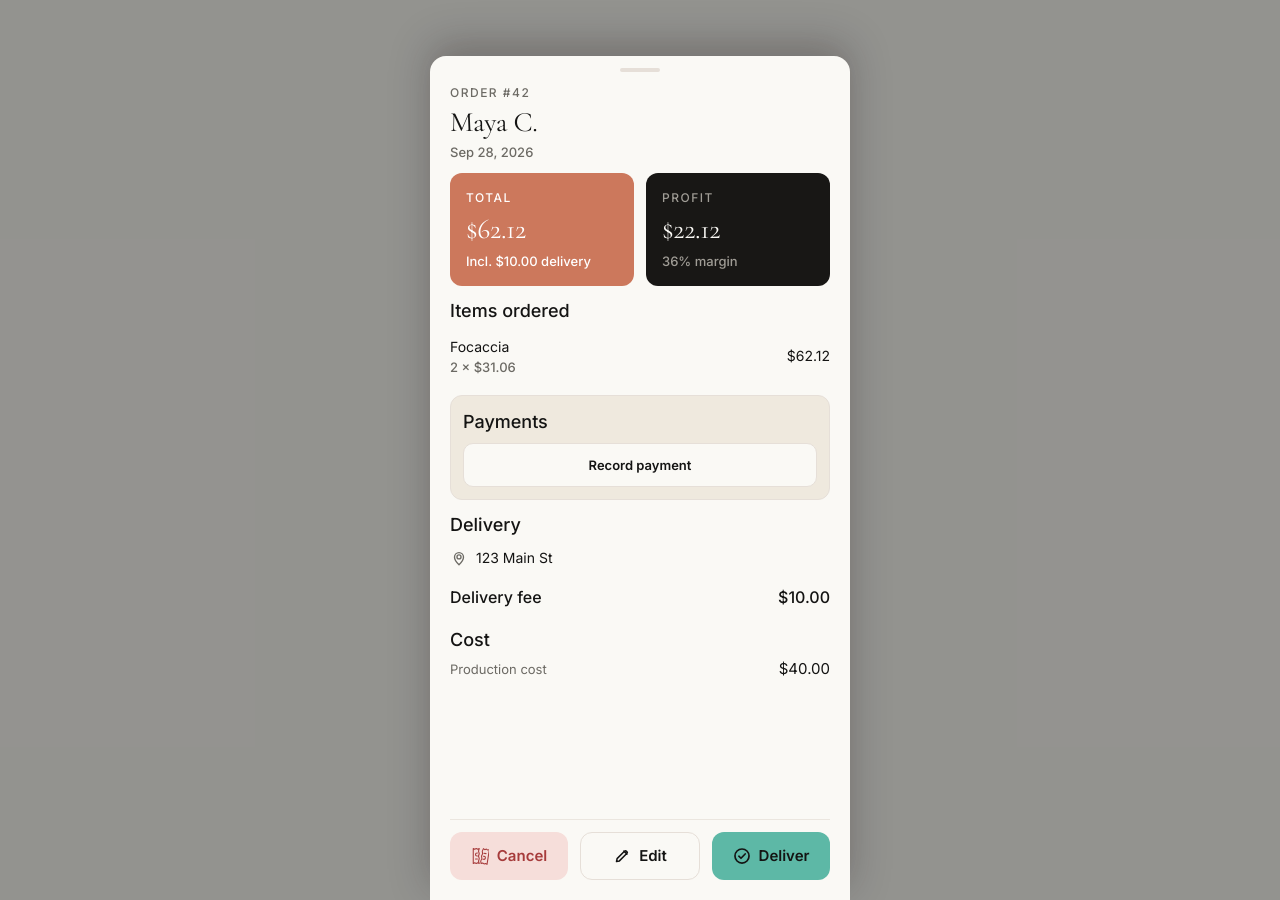
Test case: OrderDetailPage cancellation › closes the confirmation without deleting when cancelled
The width and height of the screenshot is (1280, 900).
Click the button "Cancel": [509, 856] box [450,832,568,880]
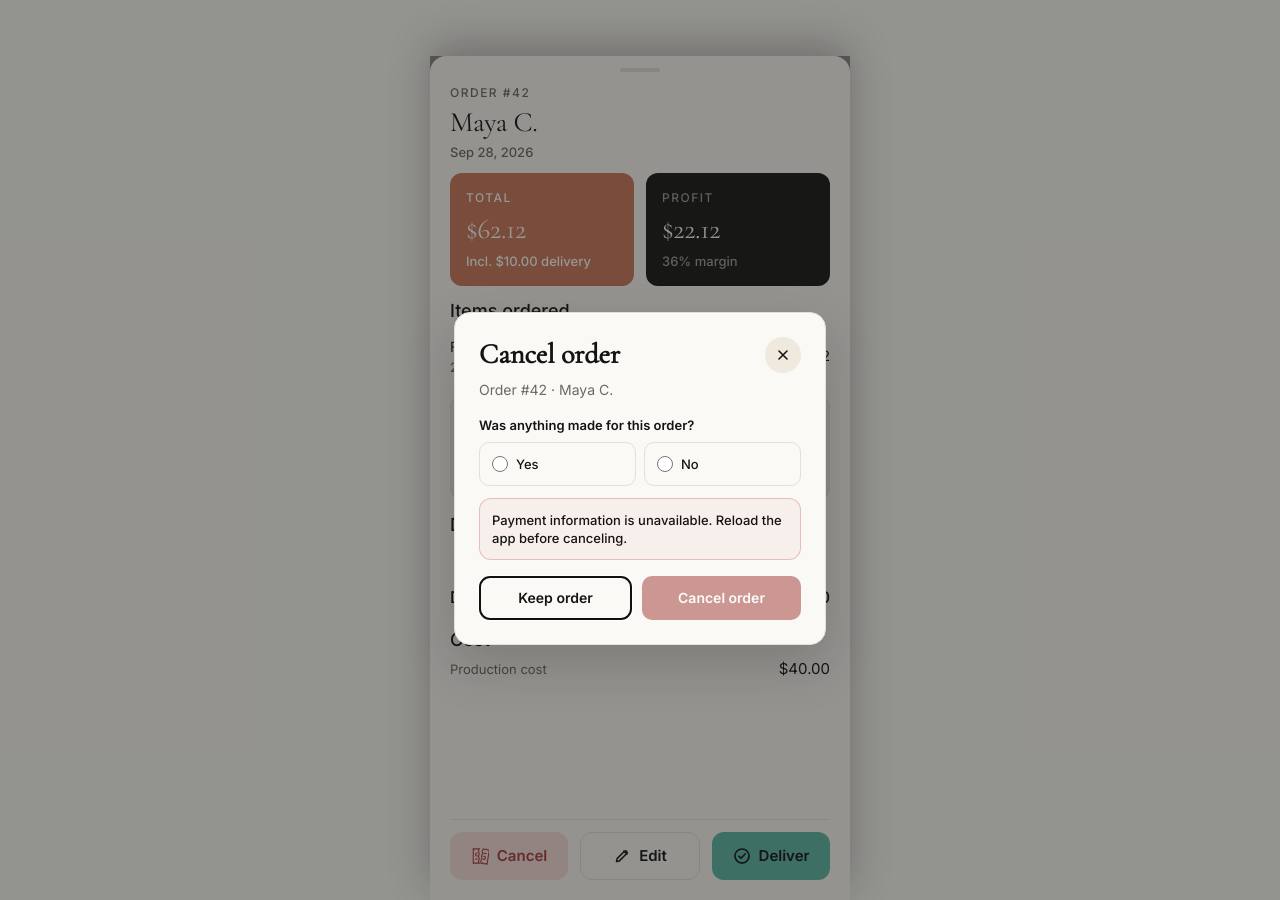
Click the button "Keep order": [556, 598] box [479,576,632,620]
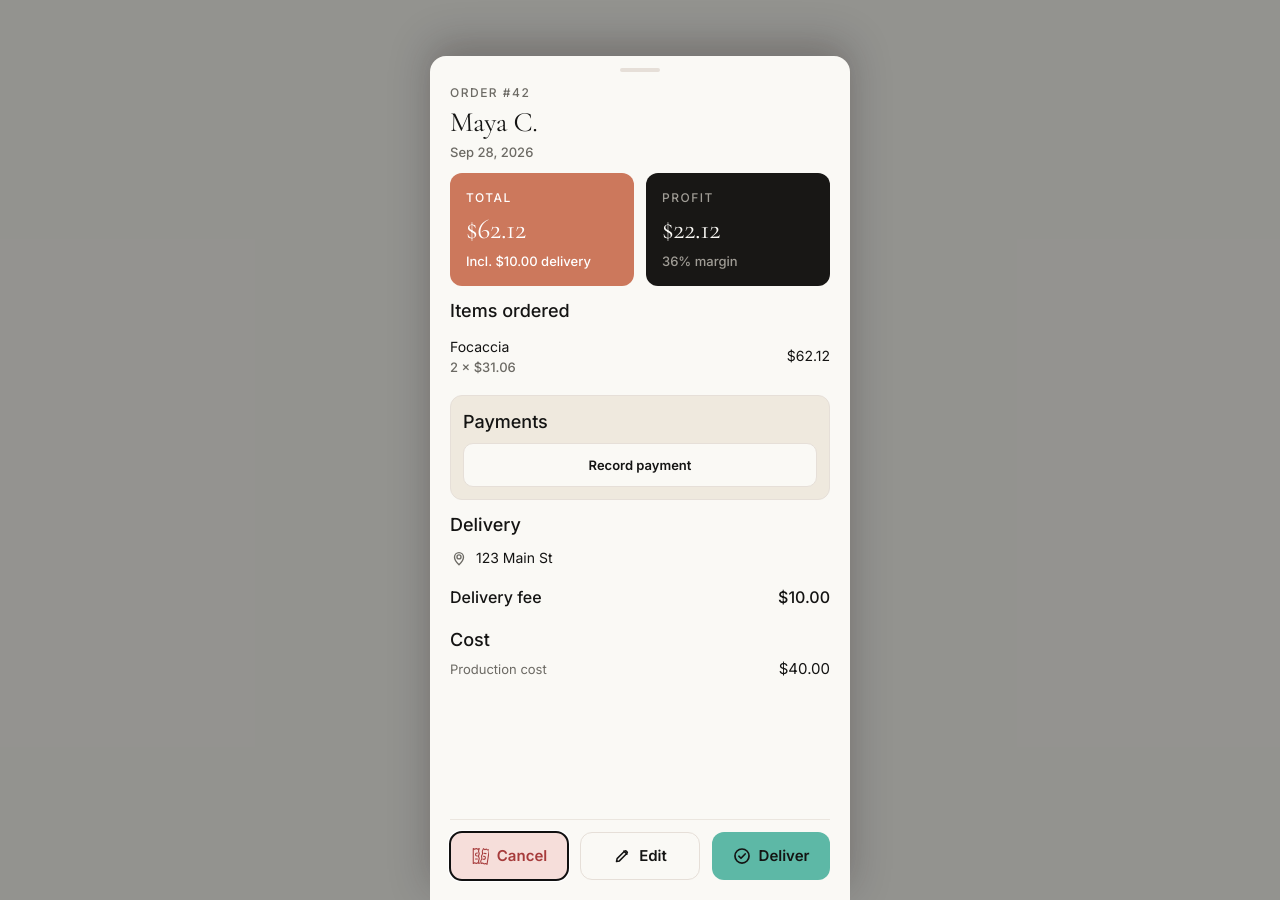
Expected: the heading "Cancel order" is gone
